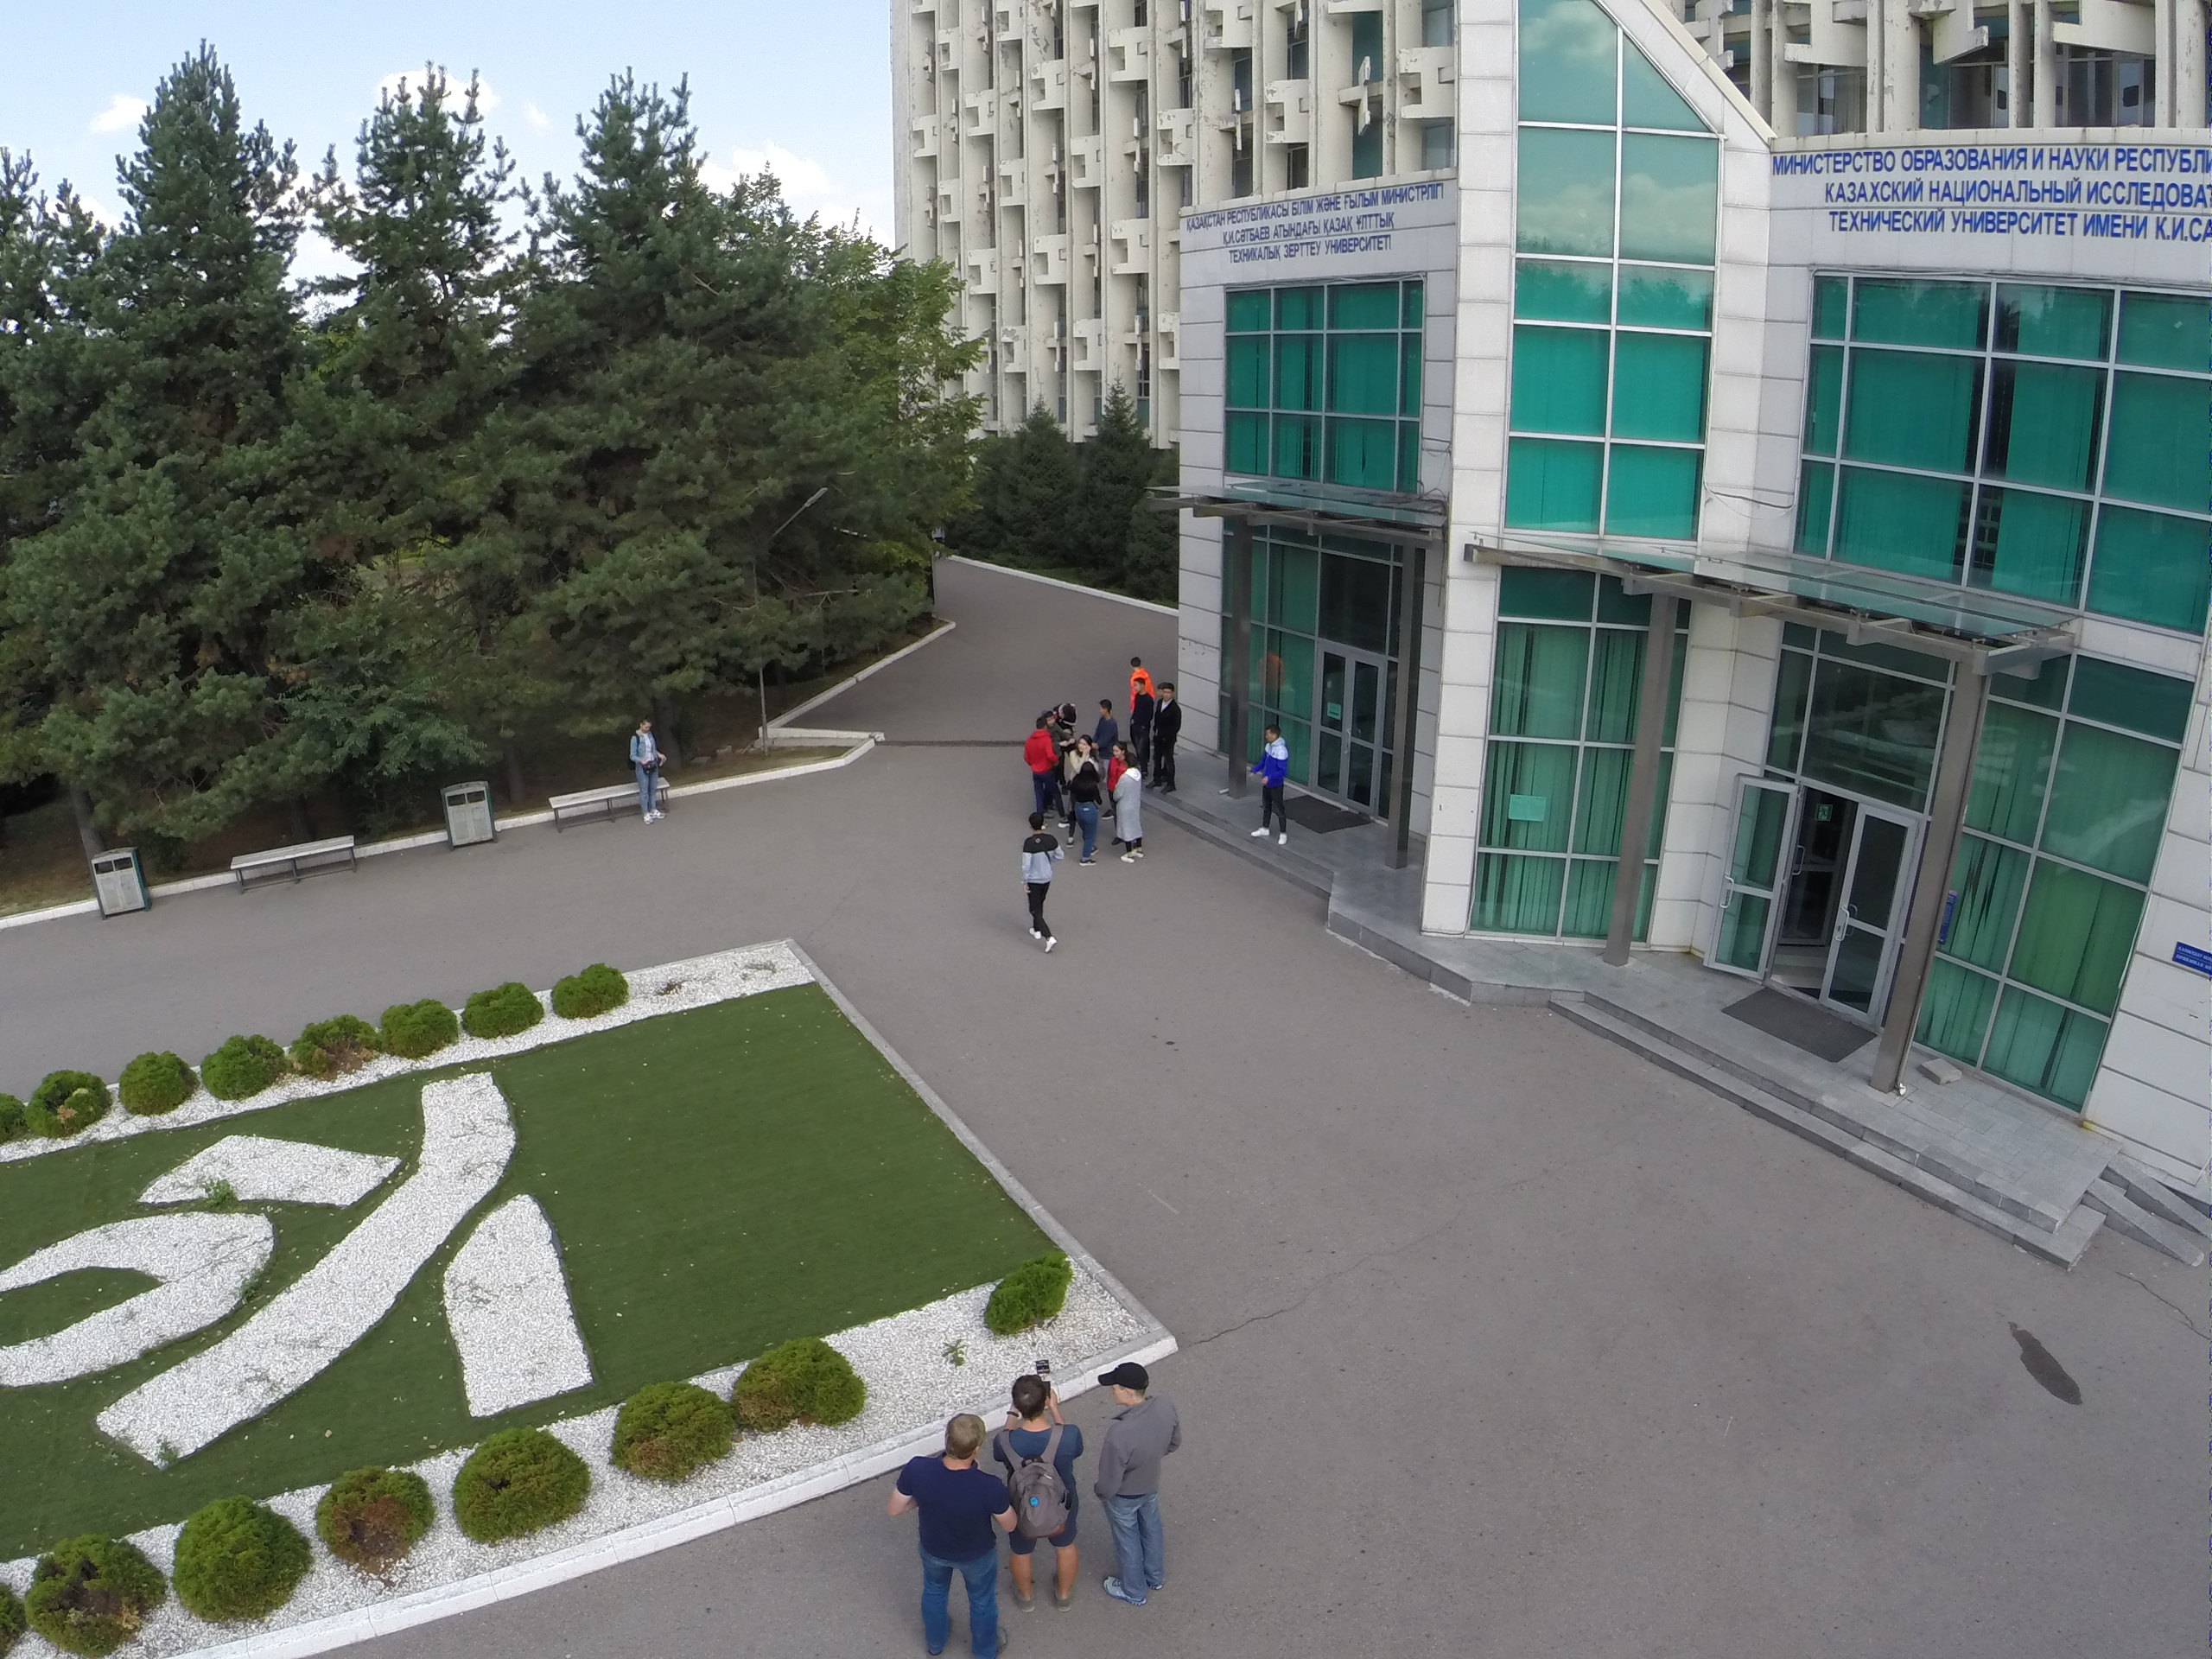person: (890, 1408, 1013, 1657), (1092, 1357, 1185, 1610), (999, 1372, 1082, 1619), (1020, 814, 1063, 955), (1249, 723, 1289, 845), (630, 718, 668, 829), (1073, 761, 1102, 869), (1027, 717, 1061, 812), (1117, 756, 1144, 864), (1155, 684, 1181, 794), (1127, 677, 1154, 755), (1072, 737, 1098, 770), (1095, 698, 1117, 740), (1106, 741, 1128, 776), (1128, 656, 1146, 677)
